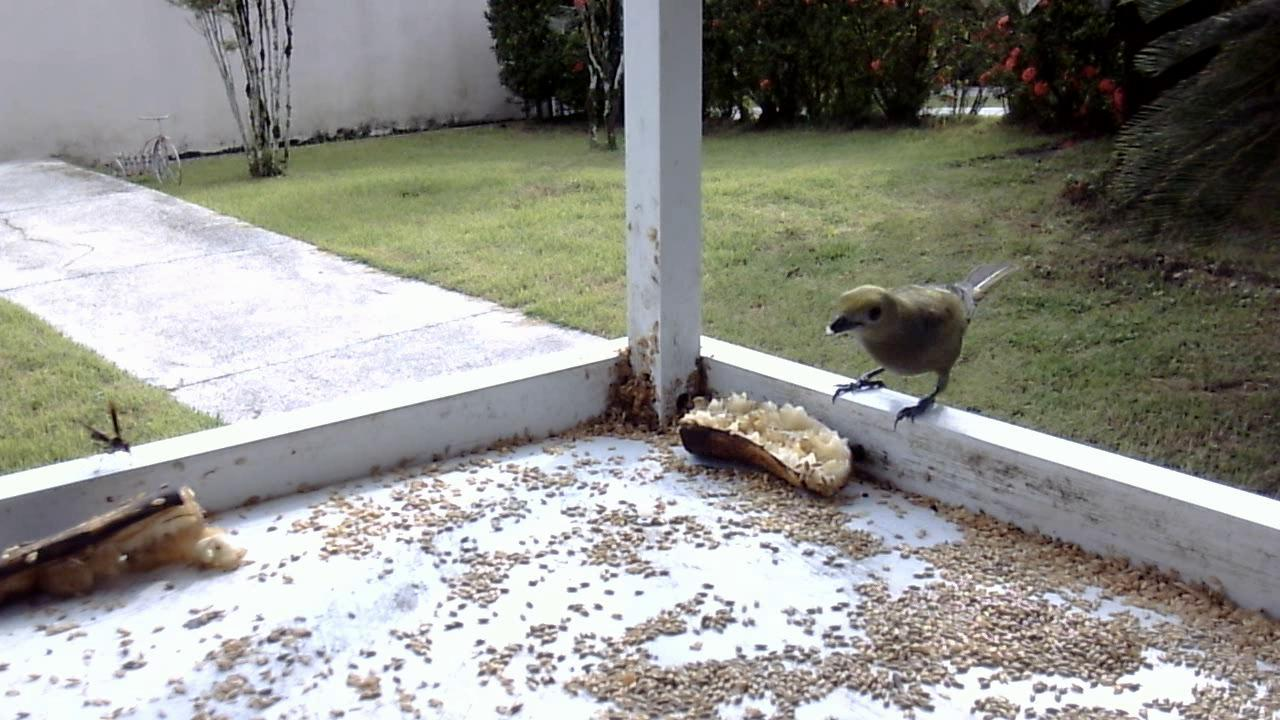sanhaco_do_coqueiro: (819, 252, 1030, 441)
